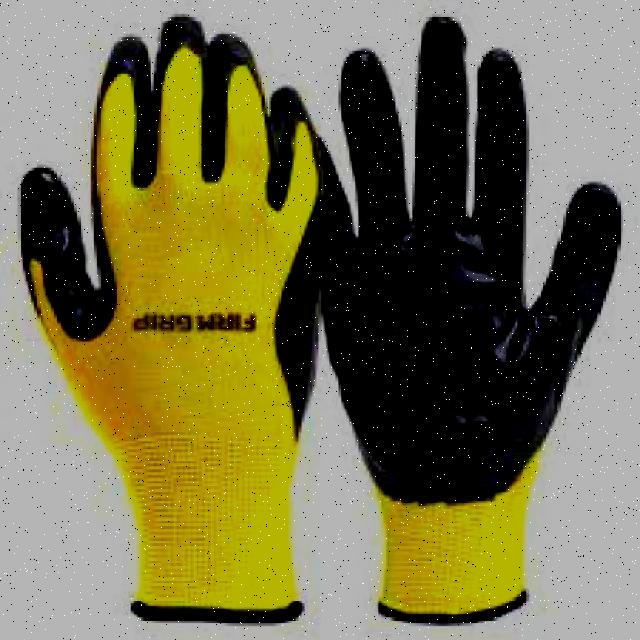Gloves: (316, 18, 629, 627), (17, 13, 323, 624)
